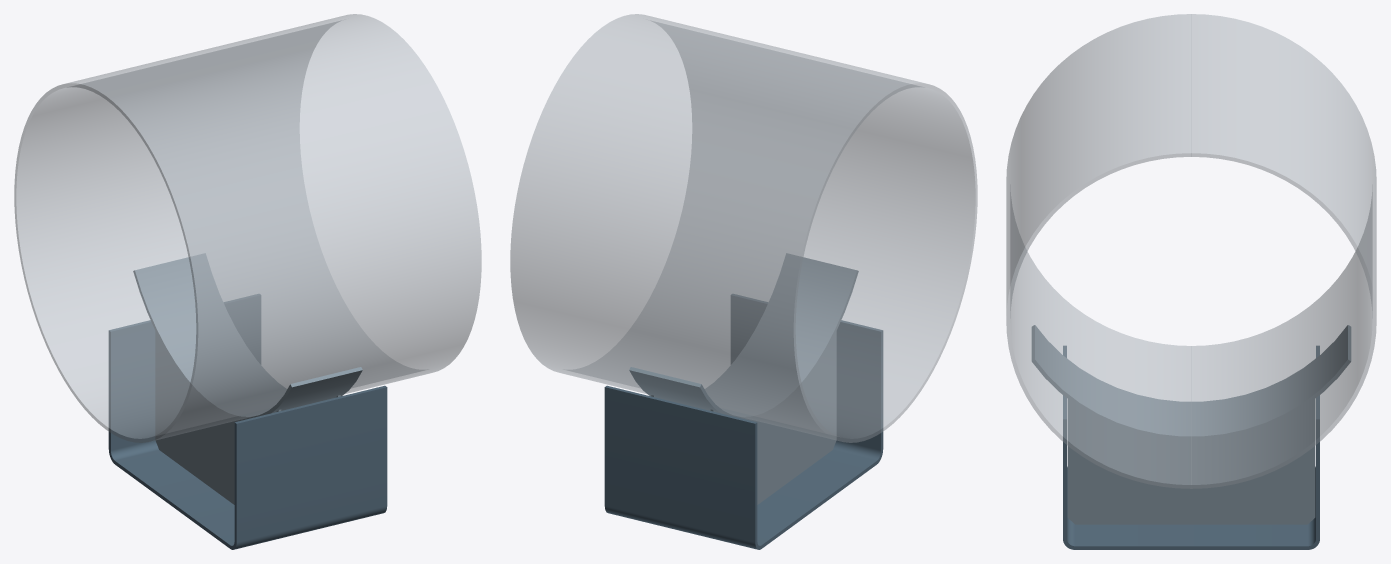
Rendered from TS-624.000-056-opora-dn720-H200-L340.glb.
The picture shows the model from 3 angles, left to right: view 1: azimuth 30°, elevation 25°; view 2: azimuth 150°, elevation 25°; view 3: azimuth 270°, elevation 25°; orthographic projection.
Parts seen in each view (by area): view 1: truba, skoba, podushka_0, rebro3_0; view 2: truba, skoba, podushka_0, rebro3_0; view 3: truba, rebro3_1, podushka_0, skoba.
Part boxes in pixels (x1,y1,x2,y2): truba: (14, 14, 481, 442); skoba: (108, 294, 387, 549); podushka_0: (133, 253, 362, 420); rebro3_0: (155, 331, 281, 504); truba: (510, 14, 977, 442); skoba: (604, 294, 883, 549); podushka_0: (629, 253, 858, 420); rebro3_0: (710, 331, 836, 504); truba: (1006, 14, 1376, 488); rebro3_1: (1067, 399, 1315, 524); podushka_0: (1031, 325, 1351, 439); skoba: (1063, 345, 1319, 549).
Bounding box in the file's own units: 640 × 921 × 720.
